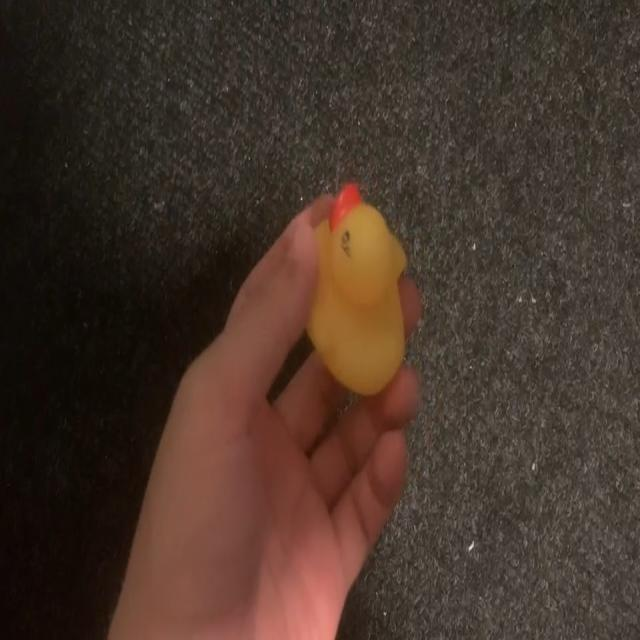rubber-duck: (307, 183, 404, 393)
